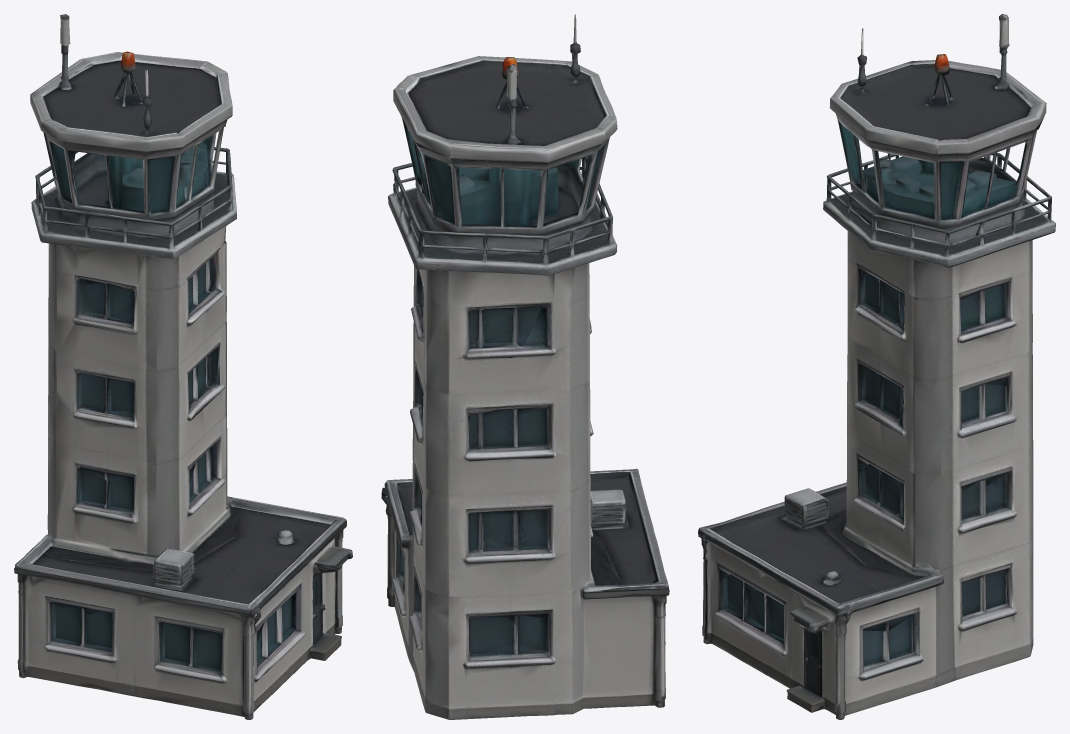
The model's file is small_tower.glb.
The picture shows the model from 3 angles, left to right: view 1: azimuth 30°, elevation 25°; view 2: azimuth 150°, elevation 25°; view 3: azimuth 270°, elevation 25°; orthographic projection. The views are drawn at different scales.
Parts seen in each view (by area): view 1: tripo_node_11b2c89f-89ca-48a3-911b-fc47b603d69f; view 2: tripo_node_11b2c89f-89ca-48a3-911b-fc47b603d69f; view 3: tripo_node_11b2c89f-89ca-48a3-911b-fc47b603d69f.
Boxes of the visible parts, <box> form: tripo_node_11b2c89f-89ca-48a3-911b-fc47b603d69f: <box>14,14,352,719</box>; tripo_node_11b2c89f-89ca-48a3-911b-fc47b603d69f: <box>381,14,669,719</box>; tripo_node_11b2c89f-89ca-48a3-911b-fc47b603d69f: <box>698,14,1055,719</box>.
Size of the model in its own units: 0.5038 by 0.9795 by 0.5212.
1 material, 1 textured.
